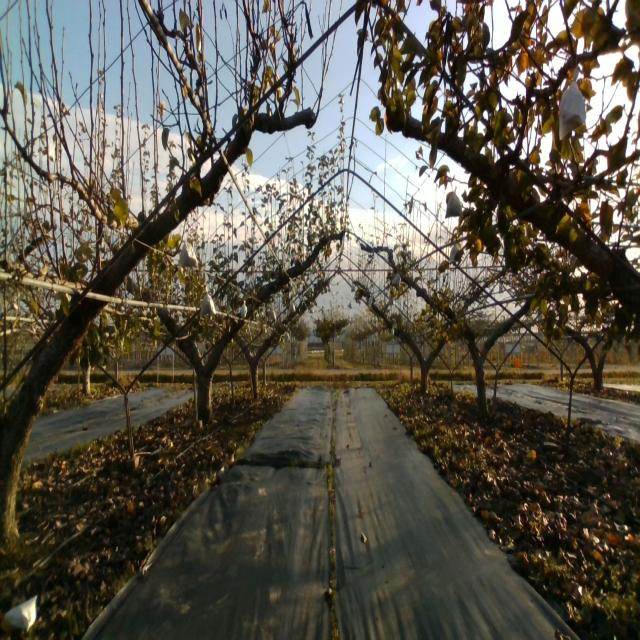pearbags: (558, 66, 587, 142), (444, 183, 464, 220), (180, 240, 199, 270), (200, 288, 217, 318), (449, 243, 461, 264)
